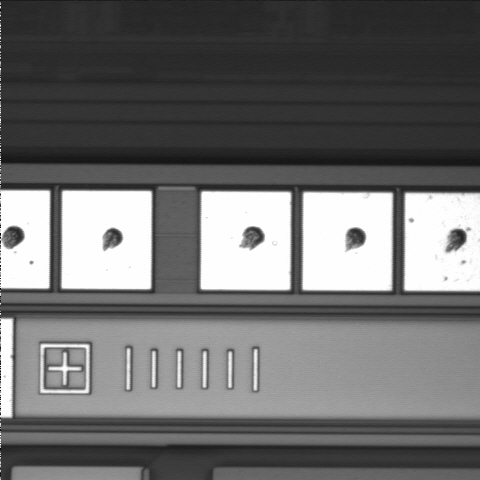pad: (62, 191, 152, 289), (201, 192, 291, 290), (303, 192, 392, 290)
